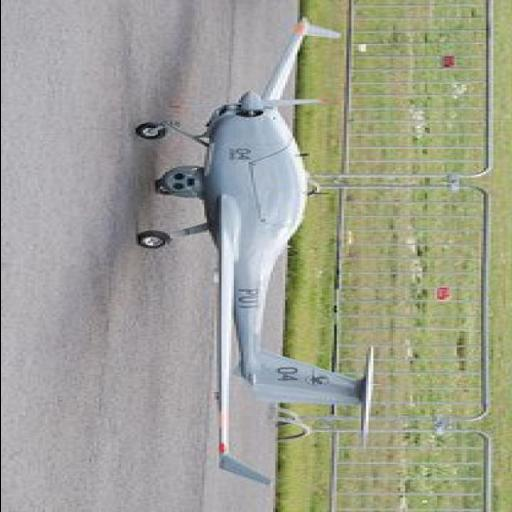uav: (128, 8, 382, 512)
